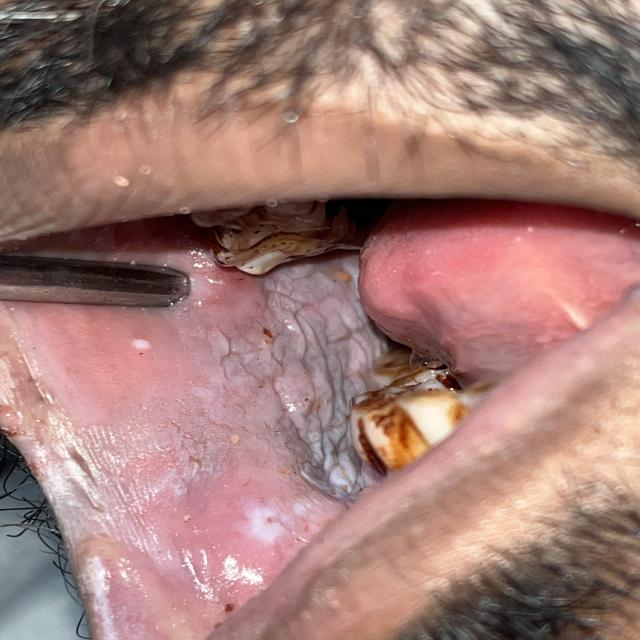leukoplakia-detection: (52, 256, 389, 536), (235, 487, 326, 551)
processing_area: (0, 226, 640, 640)
